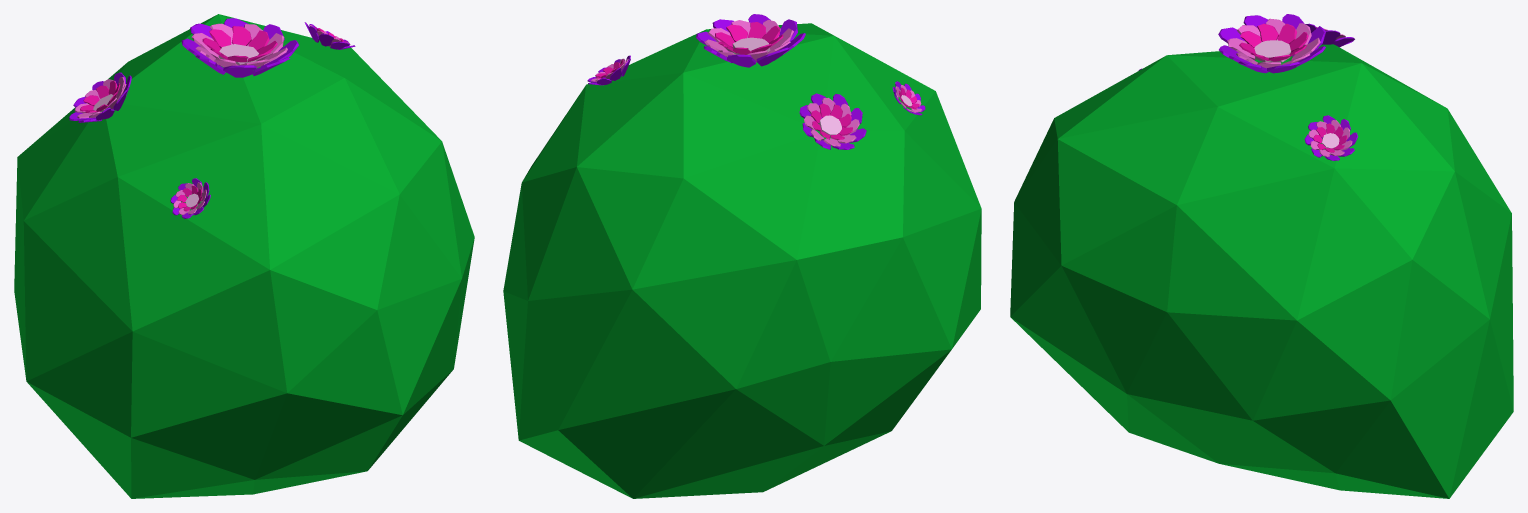
File: zbun 1.fbx
The picture shows the model from 3 angles, left to right: view 1: azimuth 30°, elevation 25°; view 2: azimuth 150°, elevation 25°; view 3: azimuth 270°, elevation 25°; orthographic projection. The views are drawn at different scales.
Visible parts, largest first — view 1: Icosphere.008; view 2: Icosphere.008; view 3: Icosphere.008.
Part boxes in pixels (left/top/right/bottom): Icosphere.008: left=14, top=14, right=474, bottom=498; Icosphere.008: left=503, top=14, right=981, bottom=498; Icosphere.008: left=1010, top=14, right=1513, bottom=498.
Bounding box in the file's own units: 283 × 286 × 296.
